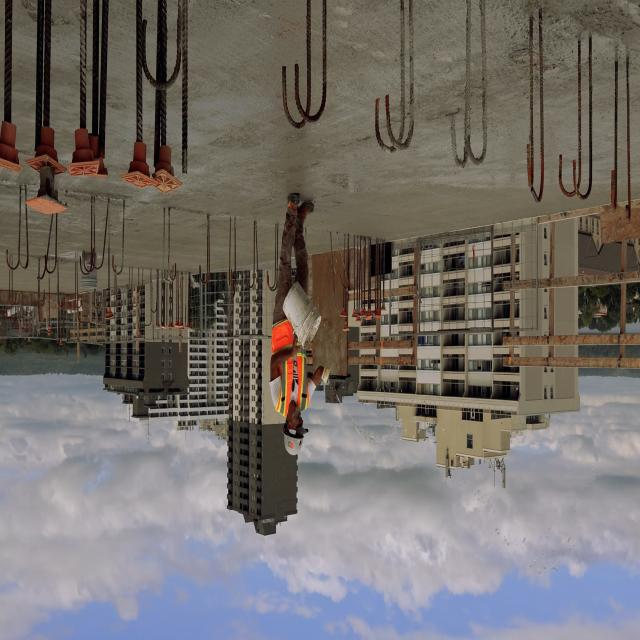Boots: (286, 193, 299, 221), (297, 200, 316, 219)
Helmet: (282, 424, 308, 454)
Vest: (272, 318, 312, 417)
